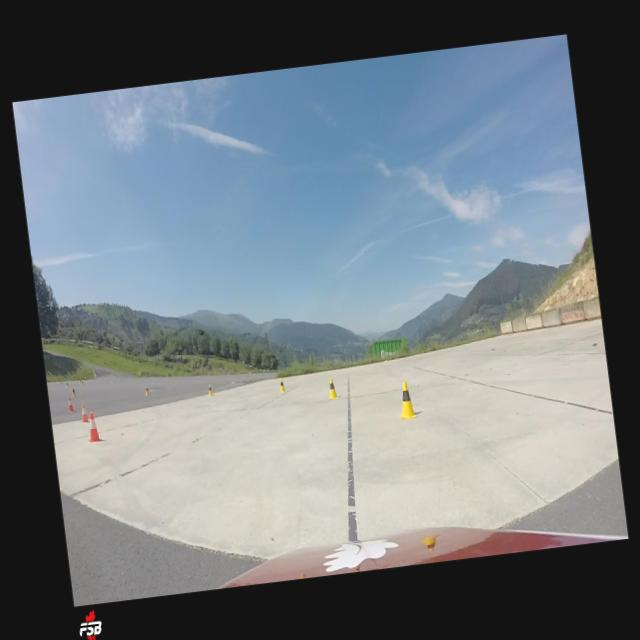orange_cone: (85, 412, 102, 442), (78, 403, 89, 422), (67, 396, 73, 412)
yellow_cone: (396, 379, 416, 418), (326, 376, 338, 398), (278, 378, 284, 392), (206, 384, 212, 396), (144, 385, 149, 396), (72, 386, 76, 396)
